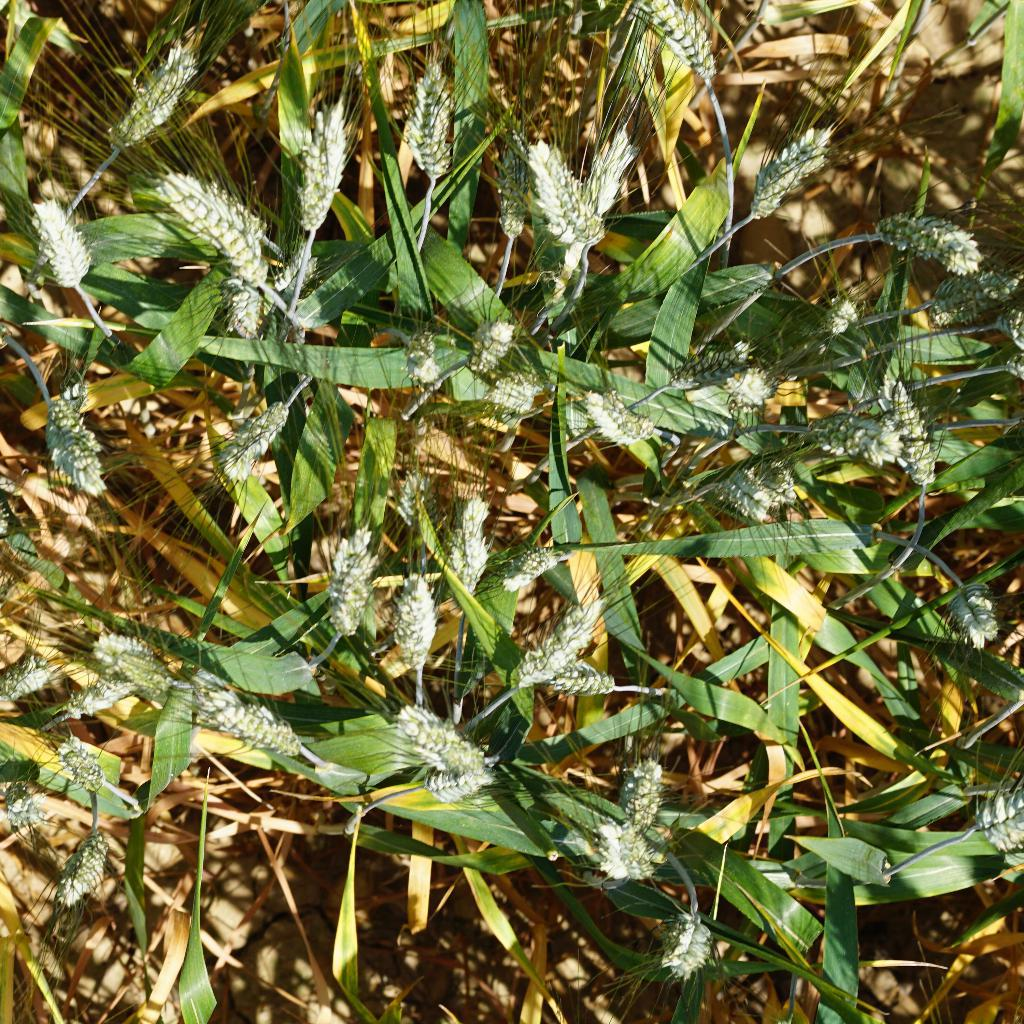0-0: (152, 154, 277, 287), (860, 185, 1001, 272), (33, 382, 133, 503), (384, 37, 463, 186), (89, 40, 195, 149), (524, 130, 615, 253), (626, 0, 736, 97), (737, 118, 833, 227), (209, 388, 309, 490), (200, 687, 320, 769), (515, 591, 605, 695), (22, 183, 104, 296), (286, 99, 352, 234), (313, 516, 380, 639), (571, 376, 673, 456), (878, 384, 946, 504), (486, 90, 537, 239), (798, 396, 900, 470), (937, 567, 1016, 660), (919, 266, 1024, 335), (387, 565, 448, 681), (53, 800, 114, 911), (79, 623, 172, 692), (396, 697, 479, 773), (606, 748, 680, 826), (695, 456, 776, 527), (443, 481, 493, 589), (587, 130, 642, 228), (656, 904, 725, 980), (45, 733, 119, 798), (661, 337, 755, 388), (211, 269, 271, 345), (594, 818, 660, 885), (56, 669, 135, 724), (488, 531, 563, 586), (544, 656, 623, 707), (715, 363, 786, 418), (403, 758, 482, 804), (0, 773, 51, 843), (975, 783, 1024, 855), (463, 321, 523, 378), (393, 452, 436, 529), (464, 384, 542, 426), (804, 290, 862, 342), (0, 661, 71, 701), (402, 329, 445, 389)
